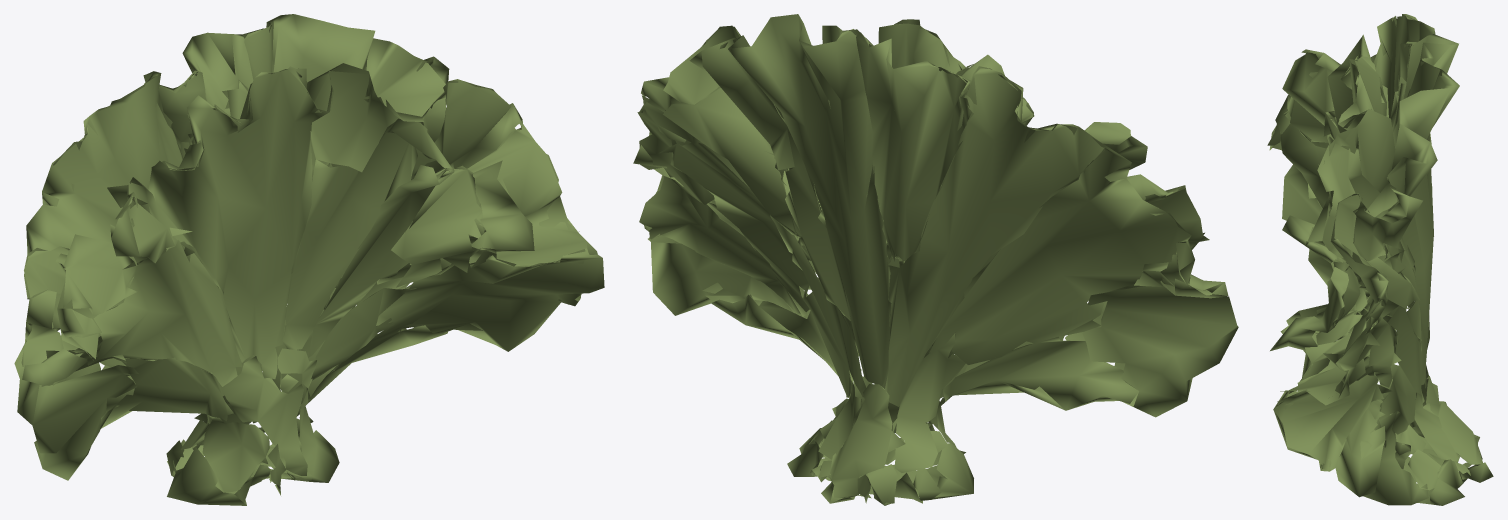
Rendered from Hyper3D_fan_plant.glb.
3 views of the same model, side by side, from view 1: azimuth 30°, elevation 25°; view 2: azimuth 150°, elevation 25°; view 3: azimuth 270°, elevation 25° (orthographic). The views are drawn at different scales.
Visible parts, largest first — view 1: Hyper3D_fan_plant; view 2: Hyper3D_fan_plant; view 3: Hyper3D_fan_plant.
Boxes of the visible parts, x1=… form: Hyper3D_fan_plant: x1=14, y1=14, x2=604, y2=505; Hyper3D_fan_plant: x1=633, y1=14, x2=1238, y2=505; Hyper3D_fan_plant: x1=1267, y1=14, x2=1493, y2=505.
Bounding box in the file's own units: 1.89 × 1.37 × 0.6617.
